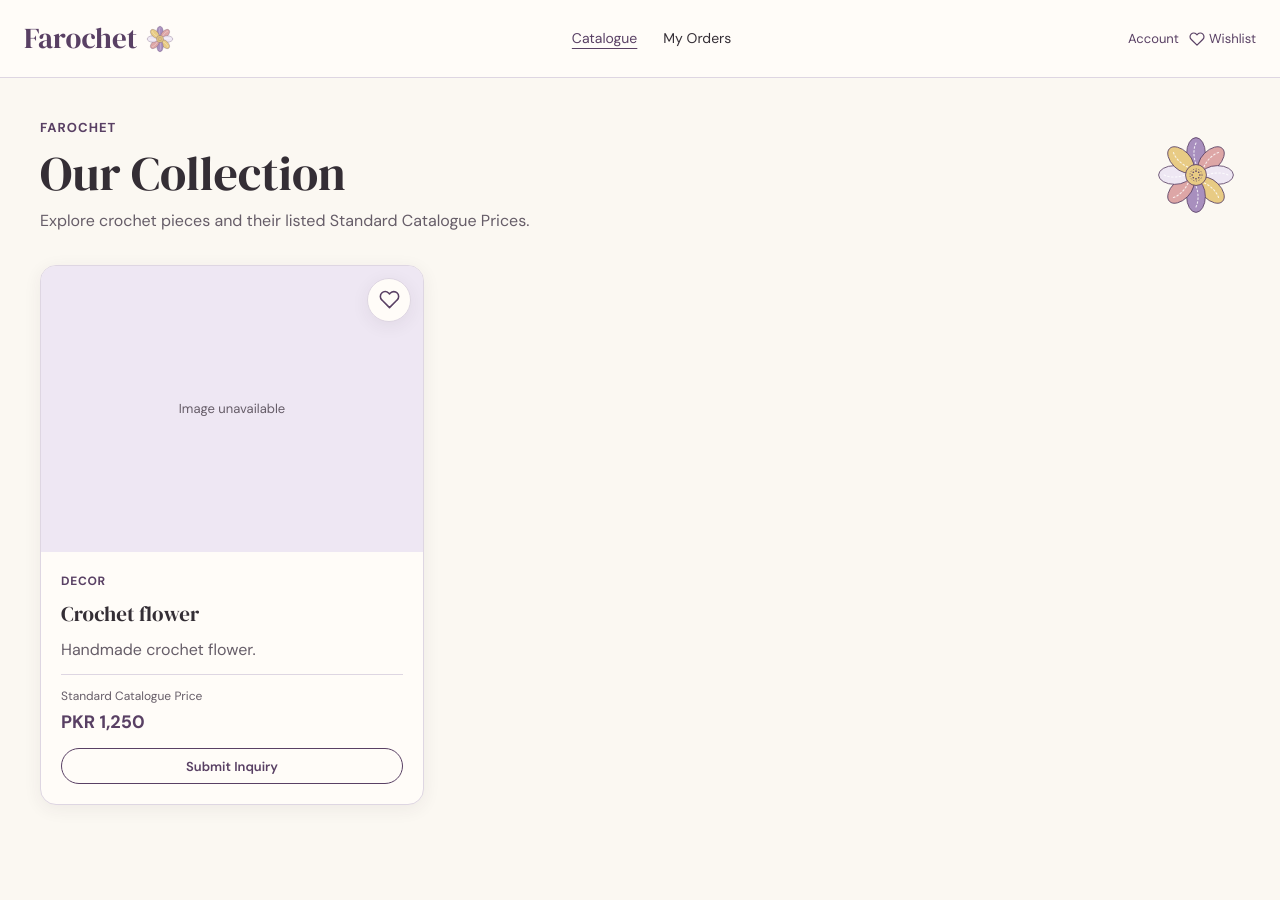
Scenario: CustomerCataloguePage wishlist integration › adds a catalogue product using the current customer's token
The width and height of the screenshot is (1280, 900).
Expected: the heading "Crochet flower" is shown, left=61, top=599, right=199, bottom=628
Click the button named "Add to Wishlist" at (389, 300), box left=367, top=278, right=411, bottom=322
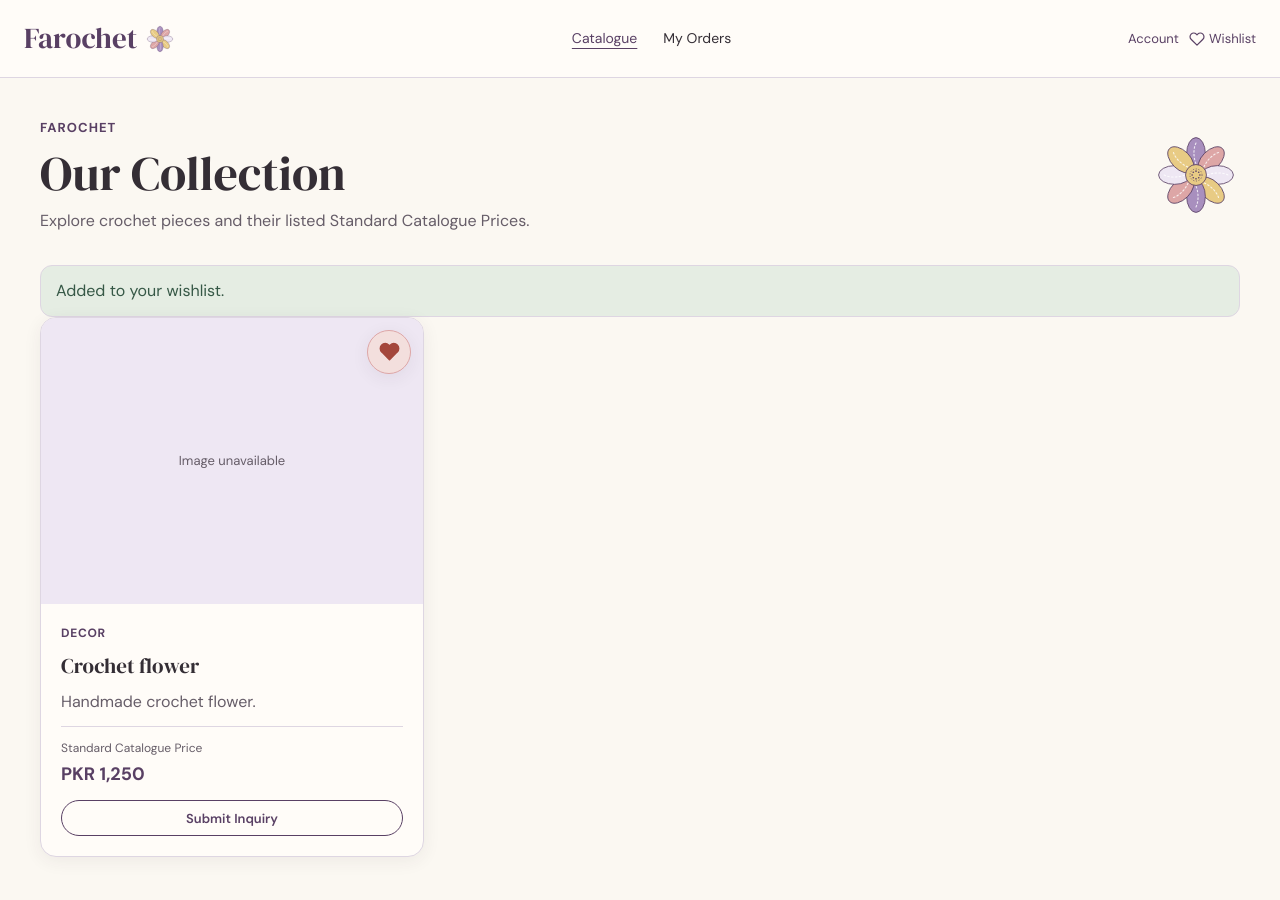
Now the text "Added to your wishlist." is shown, box left=56, top=279, right=224, bottom=303
Click the button named "Remove from Wishlist" at (389, 352), box left=367, top=330, right=411, bottom=374
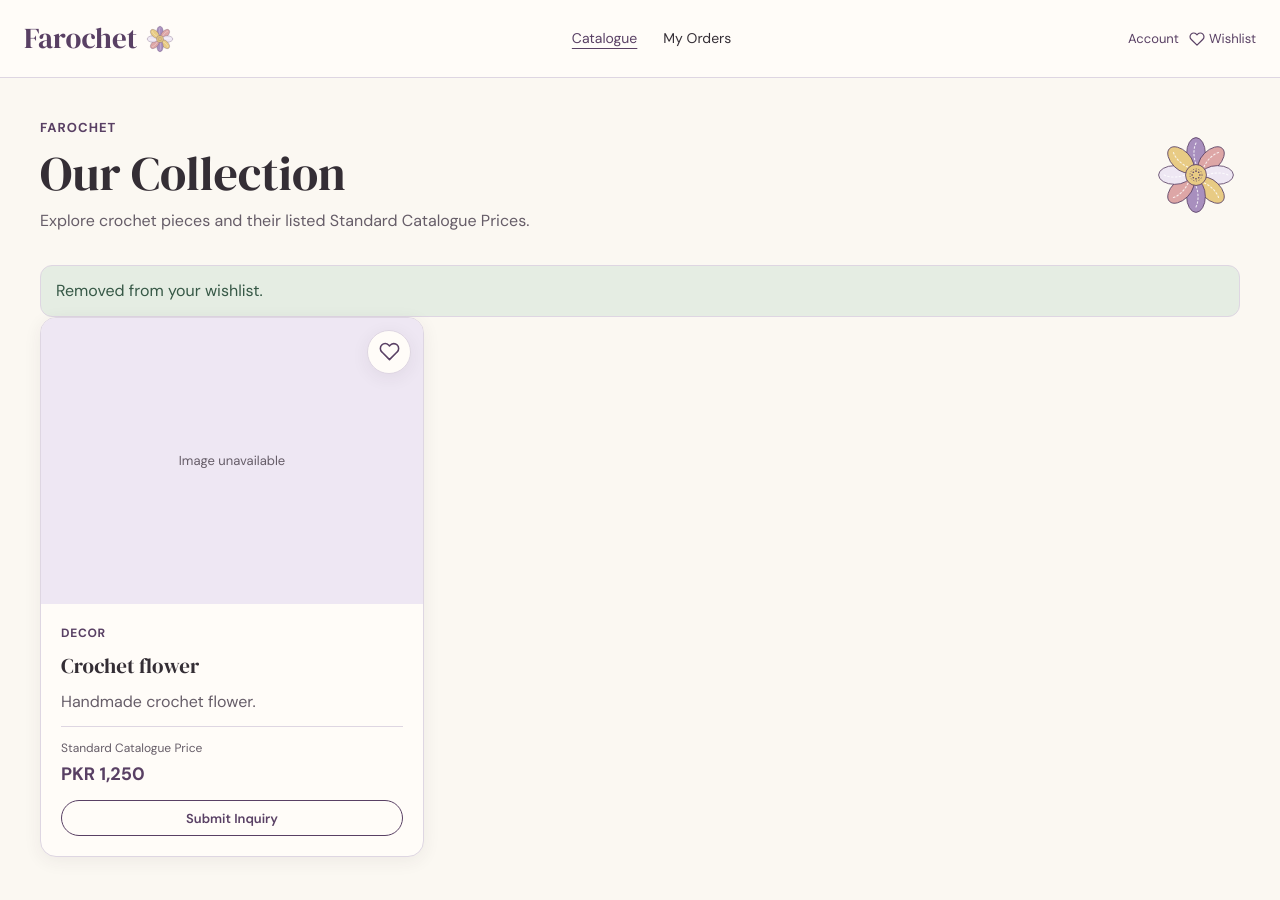
Now the text "Removed from your wishlist." is shown, box left=56, top=279, right=263, bottom=303
